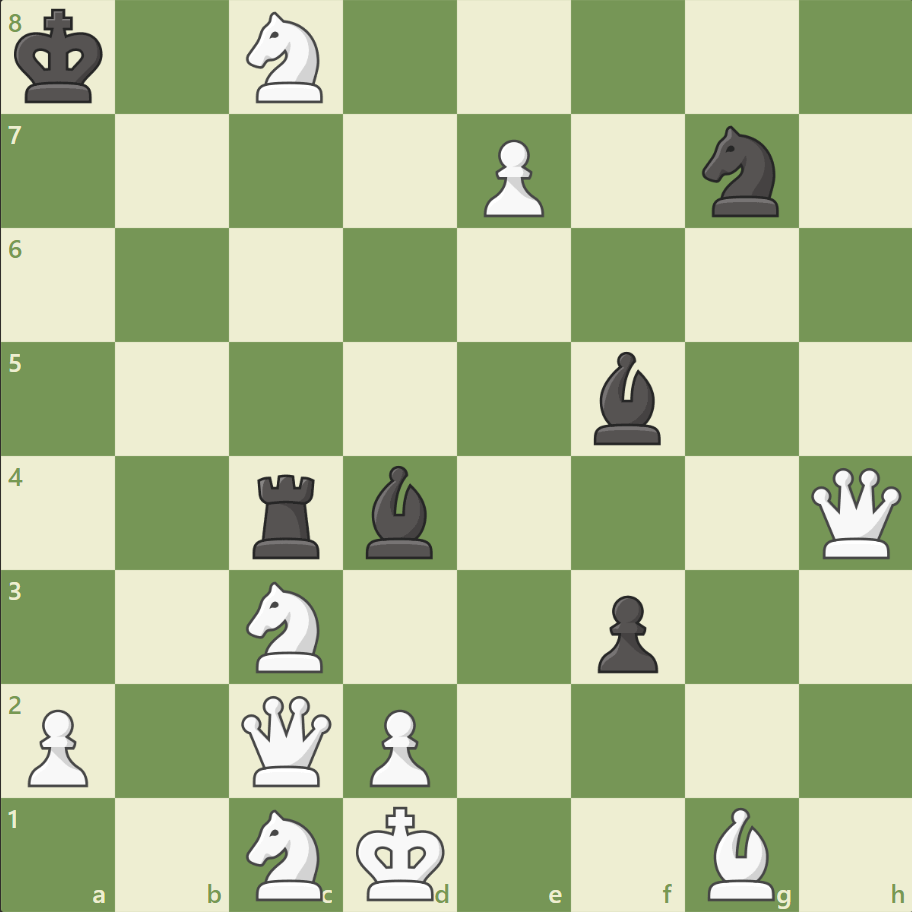B: (698, 801, 782, 904)
K: (351, 798, 451, 906)
N: (238, 7, 335, 110), (238, 575, 335, 677), (238, 802, 335, 904)
P: (474, 132, 549, 223), (20, 700, 95, 791), (361, 700, 435, 791)
Q: (805, 463, 904, 562), (237, 690, 336, 789)
b: (358, 460, 442, 563), (585, 347, 669, 449)
k: (11, 4, 111, 112)
n: (692, 121, 789, 223)
p: (588, 586, 662, 677)
r: (246, 466, 329, 563)
